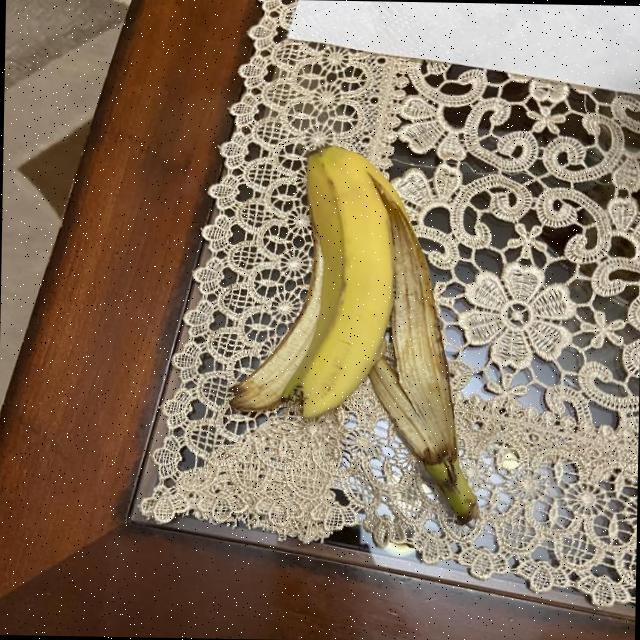banana-peel: (225, 140, 484, 524)
